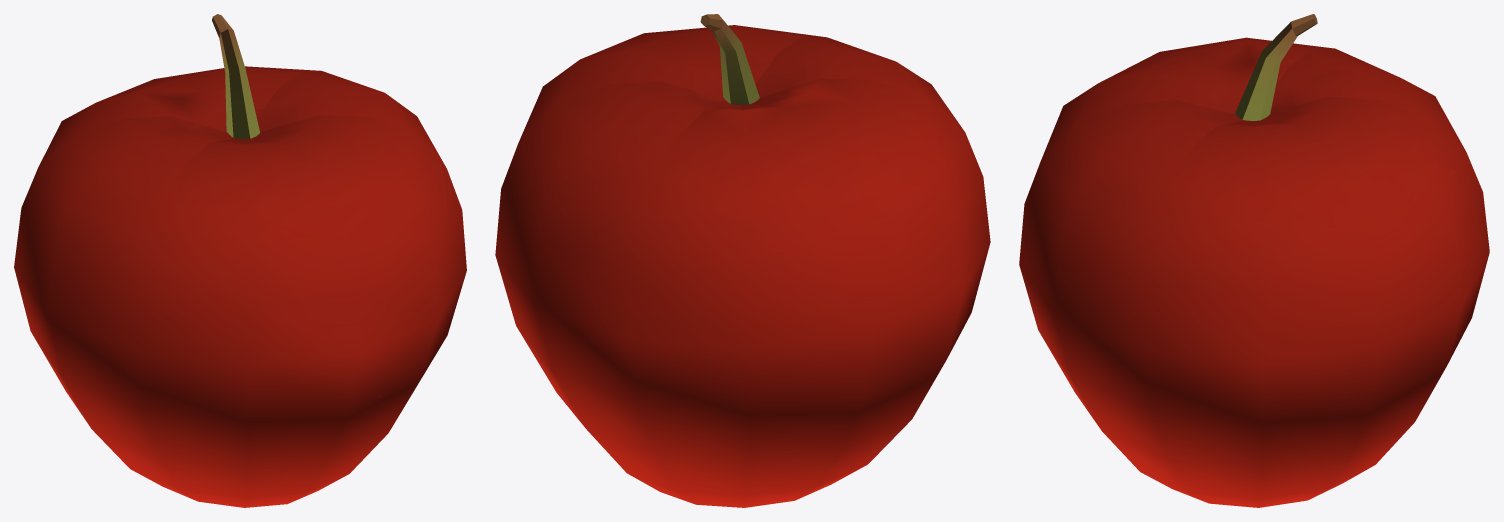
File: Apple.fbx
3 renders of one model, left to right at view 1: azimuth 30°, elevation 25°; view 2: azimuth 150°, elevation 25°; view 3: azimuth 270°, elevation 25°, orthographic. The views are drawn at different scales.
Parts seen in each view (by area): view 1: Apply; view 2: Apply; view 3: Apply.
Boxes of the visible parts, x1,y1,x2,y2 form: Apply: (14, 14, 466, 507); Apply: (495, 14, 990, 507); Apply: (1019, 14, 1489, 507).
Size of the model in its own units: 3.56 by 3.84 by 3.5.
